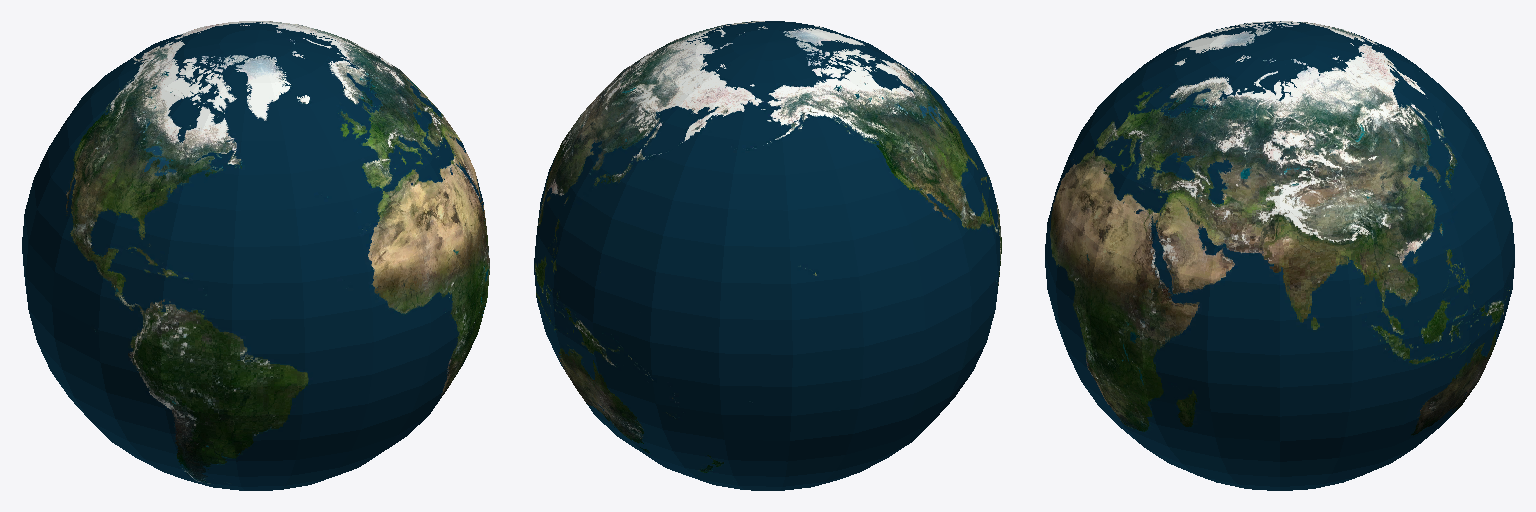
3 renders of one model, left to right at view 1: azimuth 30°, elevation 25°; view 2: azimuth 150°, elevation 25°; view 3: azimuth 270°, elevation 25°, orthographic.
Parts seen in each view (by area): view 1: atmosphere; view 2: atmosphere; view 3: atmosphere.
Part boxes in pixels (x1,y1,x2,y2): atmosphere: (22, 21, 489, 490); atmosphere: (534, 21, 1001, 490); atmosphere: (1045, 21, 1514, 490).
Size of the model in its own units: 0.969 by 0.969 by 0.969.
2 materials, 1 textured.